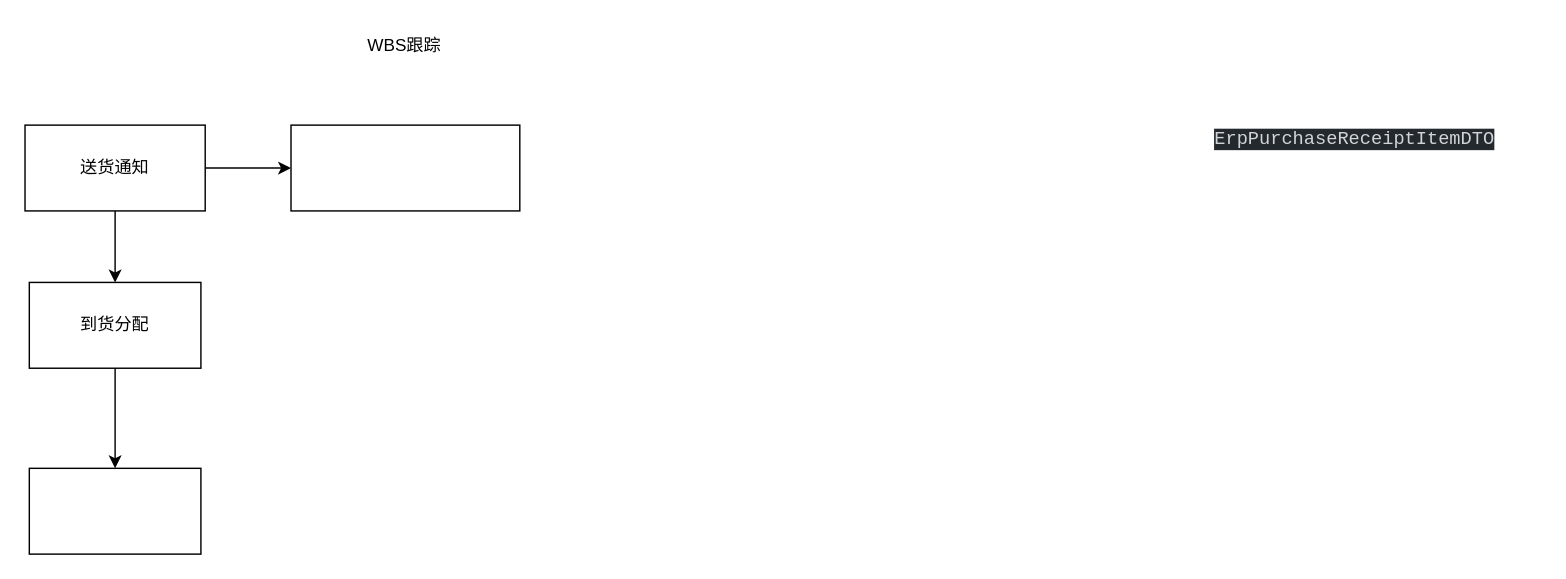
Image size: 1566x579. Some labels were removed from this diagram. The shapes that lost their labels are listed below. From the top down, each one's centre as x and y in pixels, then its label:
the point at 405,167: 调用SAP 查询采购订单
the point at 114,510: 到货登记
